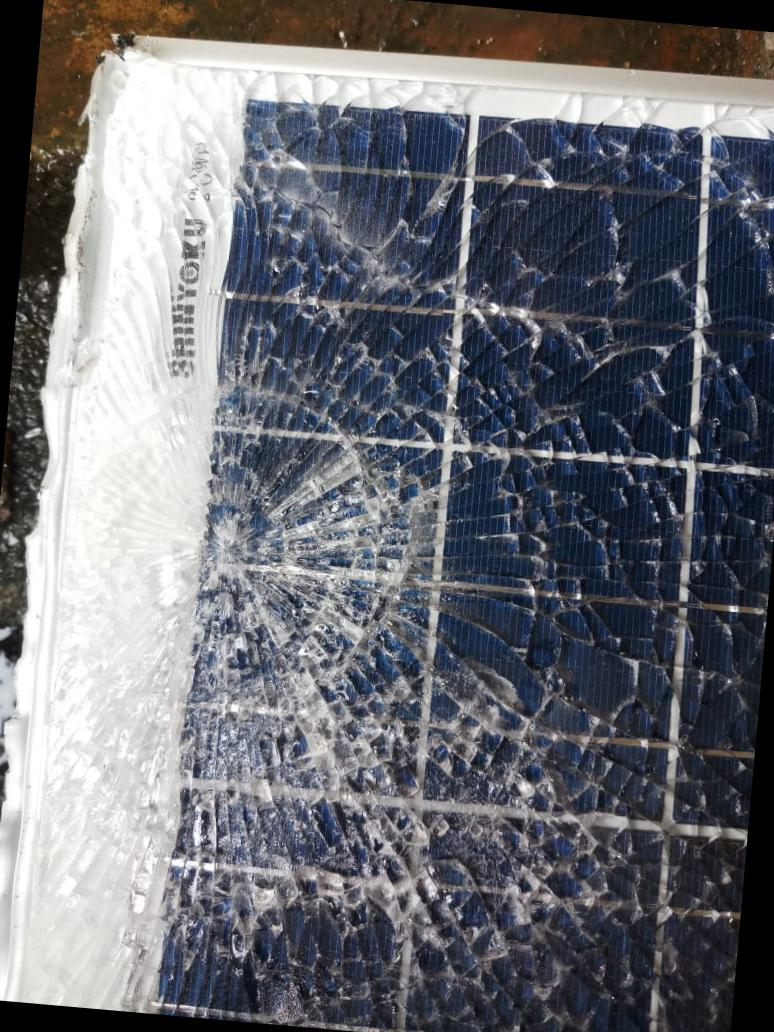Crack: (35, 358, 685, 990)
